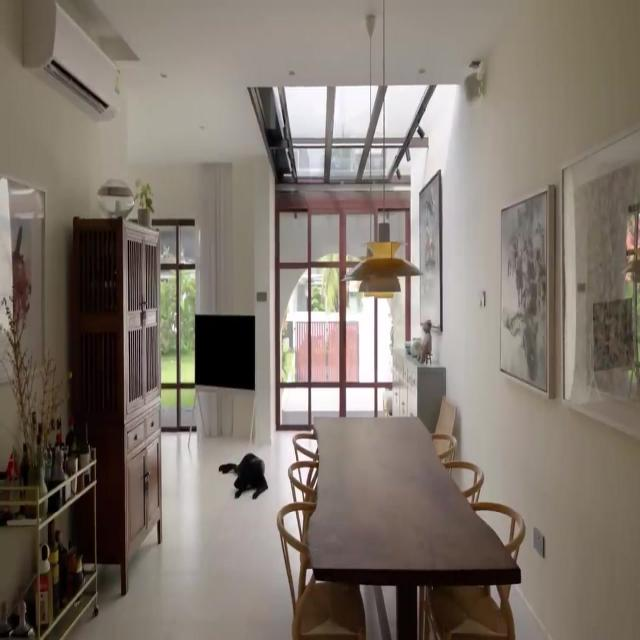obstacle: (306, 414, 522, 638), (69, 215, 163, 596), (0, 446, 99, 639)
